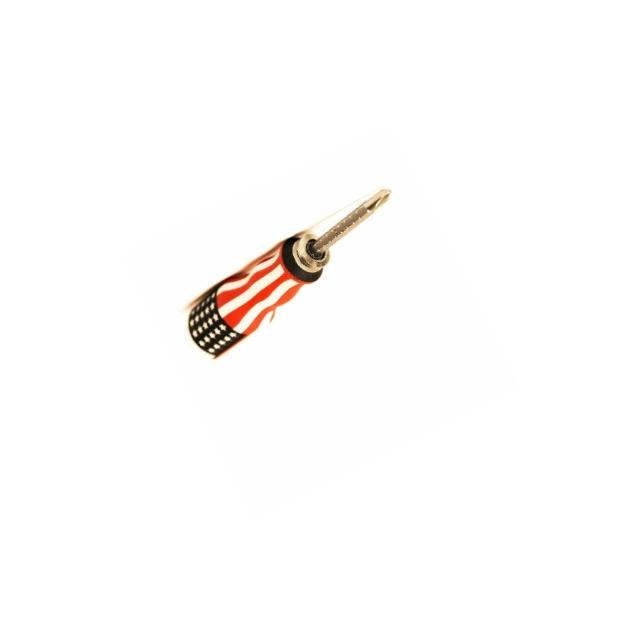screwdriver: (165, 180, 428, 368)
